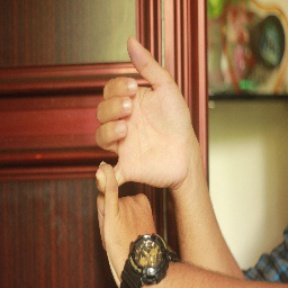S: (88, 35, 192, 284)
